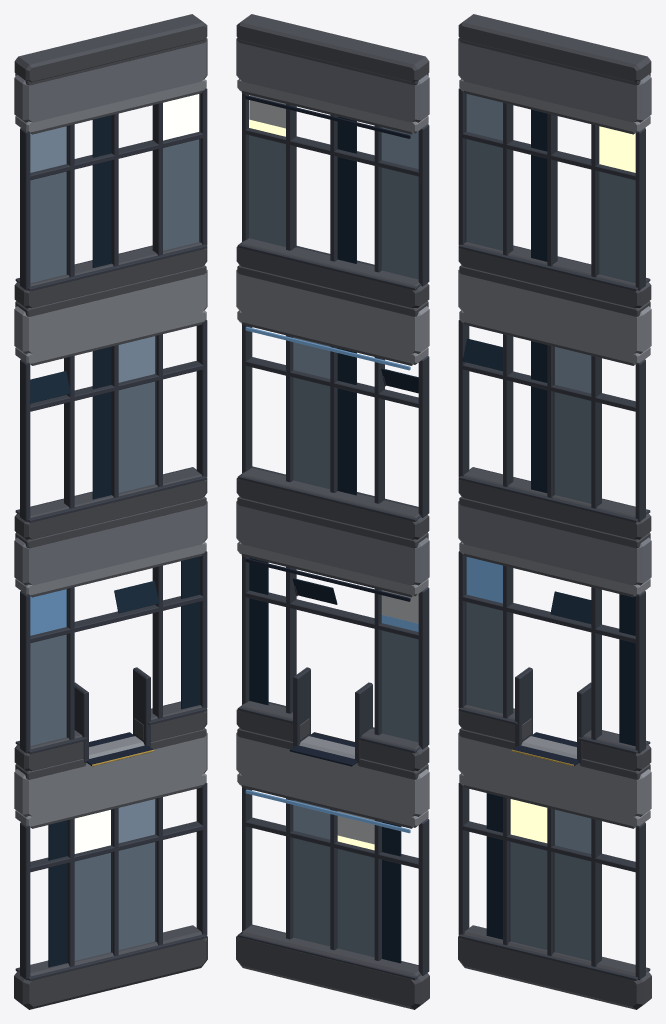
File: spire_facade_v2.glb
The picture shows the model from 3 angles, left to right: view 1: azimuth 30°, elevation 25°; view 2: azimuth 150°, elevation 25°; view 3: azimuth 330°, elevation 25°; orthographic projection.
Parts seen in each view (by area): view 1: spire_facade_spandrel0, spire_facade_spandrel1, spire_facade_spandrel2, spire_facade_spandrel3, spire_facade_plinth, spire_facade_parapet, spire_facade_sill2, spire_facade_sill3, spire_facade_pane2_2_lo, spire_facade_pane1_0_lo, spire_facade_pane3_0_lo, spire_facade_pane3_3_lo (+58 smaller); view 2: spire_facade_spandrel0, spire_facade_plinth, spire_facade_spandrel1, spire_facade_spandrel2, spire_facade_spandrel3, spire_facade_parapet, spire_facade_sill2, spire_facade_sill3, spire_facade_pane2_2_lo, spire_facade_pane3_0_lo, spire_facade_pane1_0_lo, spire_facade_pane3_3_lo (+62 smaller); view 3: spire_facade_spandrel0, spire_facade_spandrel1, spire_facade_spandrel2, spire_facade_spandrel3, spire_facade_plinth, spire_facade_parapet, spire_facade_sill2, spire_facade_sill3, spire_facade_pane1_0_lo, spire_facade_pane2_2_lo, spire_facade_pane3_0_lo, spire_facade_pane3_3_lo (+58 smaller).
Boxes of the visible parts, box(x1,y1,x2,y2) form: spire_facade_spandrel0: box(14, 732, 207, 816); spire_facade_spandrel1: box(14, 501, 207, 585); spire_facade_spandrel2: box(14, 270, 207, 353); spire_facade_spandrel3: box(14, 38, 207, 122); spire_facade_plinth: box(14, 925, 207, 1009); spire_facade_parapet: box(14, 14, 207, 82); spire_facade_sill2: box(14, 467, 207, 539); spire_facade_sill3: box(14, 242, 207, 308); spire_facade_pane2_2_lo: box(118, 381, 155, 492); spire_facade_pane1_0_lo: box(30, 634, 66, 745); spire_facade_pane3_0_lo: box(30, 171, 66, 282); spire_facade_pane3_3_lo: box(163, 139, 199, 250); spire_facade_spandrel0: box(236, 732, 429, 816); spire_facade_plinth: box(236, 925, 429, 1009); spire_facade_spandrel1: box(236, 501, 429, 585); spire_facade_spandrel2: box(236, 270, 429, 353); spire_facade_spandrel3: box(236, 38, 429, 122); spire_facade_parapet: box(236, 14, 429, 82); spire_facade_sill2: box(236, 468, 429, 539); spire_facade_sill3: box(236, 238, 429, 308); spire_facade_pane2_2_lo: box(293, 377, 330, 489); spire_facade_pane3_0_lo: box(381, 167, 418, 279); spire_facade_pane1_0_lo: box(381, 630, 418, 742); spire_facade_pane3_3_lo: box(249, 135, 285, 246); spire_facade_spandrel0: box(458, 732, 651, 816); spire_facade_spandrel1: box(458, 501, 651, 585); spire_facade_spandrel2: box(458, 270, 651, 353); spire_facade_spandrel3: box(458, 38, 651, 122); spire_facade_plinth: box(458, 925, 651, 1009); spire_facade_parapet: box(458, 14, 651, 82); spire_facade_sill2: box(458, 467, 651, 539); spire_facade_sill3: box(458, 242, 651, 308); spire_facade_pane1_0_lo: box(466, 602, 502, 713); spire_facade_pane2_2_lo: box(555, 392, 591, 503); spire_facade_pane3_0_lo: box(466, 139, 502, 250); spire_facade_pane3_3_lo: box(599, 171, 635, 282).
Bounding box in the file's own units: 8.38 × 40.9 × 1.91.
